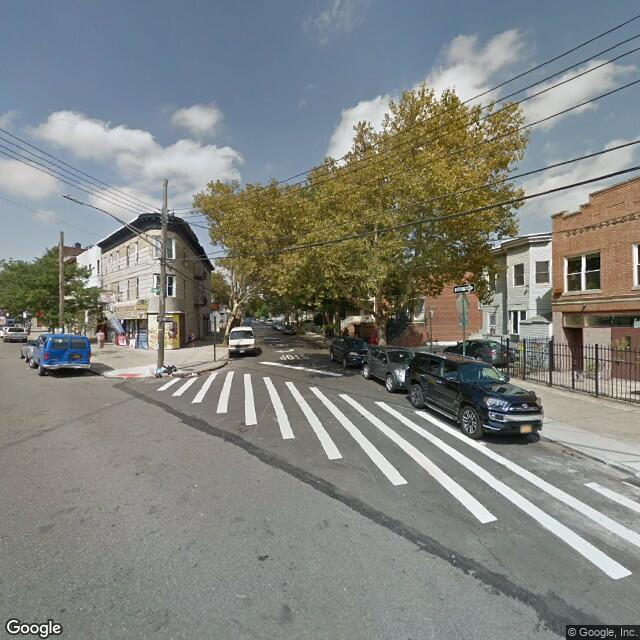litter: (151, 361, 182, 381), (188, 367, 202, 381)
